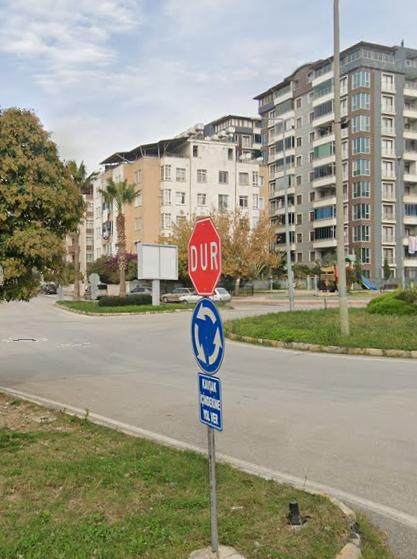crossroads: (185, 299, 240, 375)
stop: (182, 211, 234, 300)
